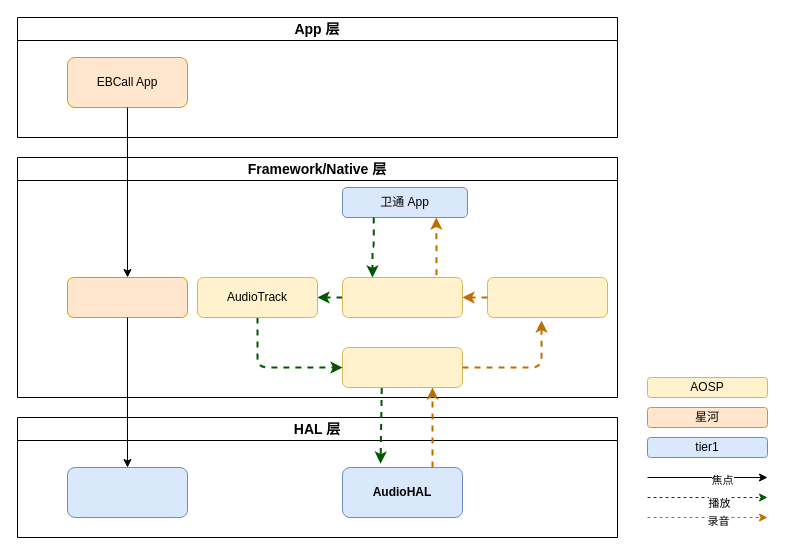
This 793x555 diagram has some shape labels left out. The centre of each missing label's shape, as x and y in pixels:
AAudio: (x=402, y=297)
AudioFlinger: (x=402, y=367)
AudioRecord: (x=547, y=297)
CarAudioServer: (x=127, y=297)
DSP: (x=127, y=492)
